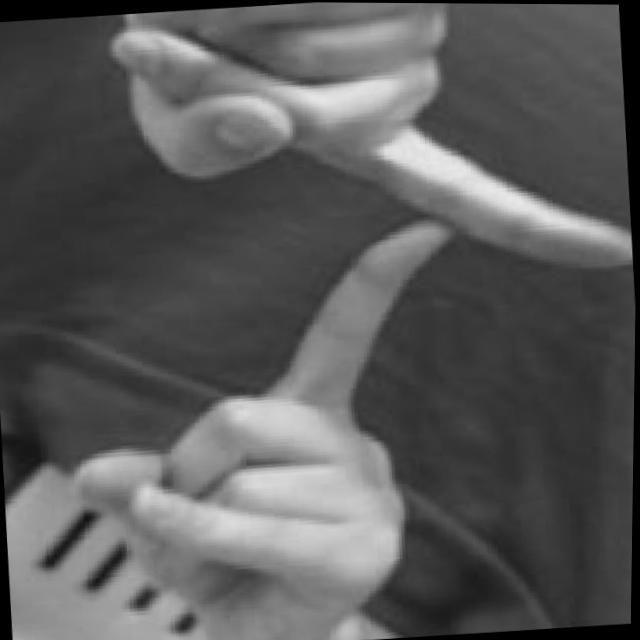T: (37, 0, 640, 640)
